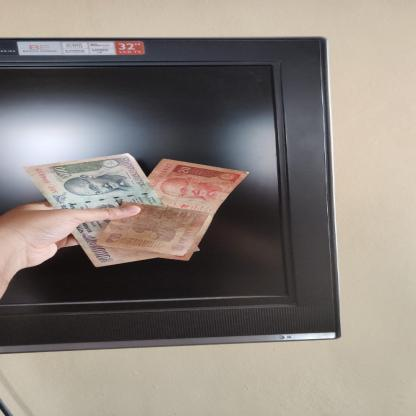Old100Front: (22, 152, 201, 268)
Old10Back: (95, 201, 211, 256)
Old20Front: (148, 158, 251, 262)
